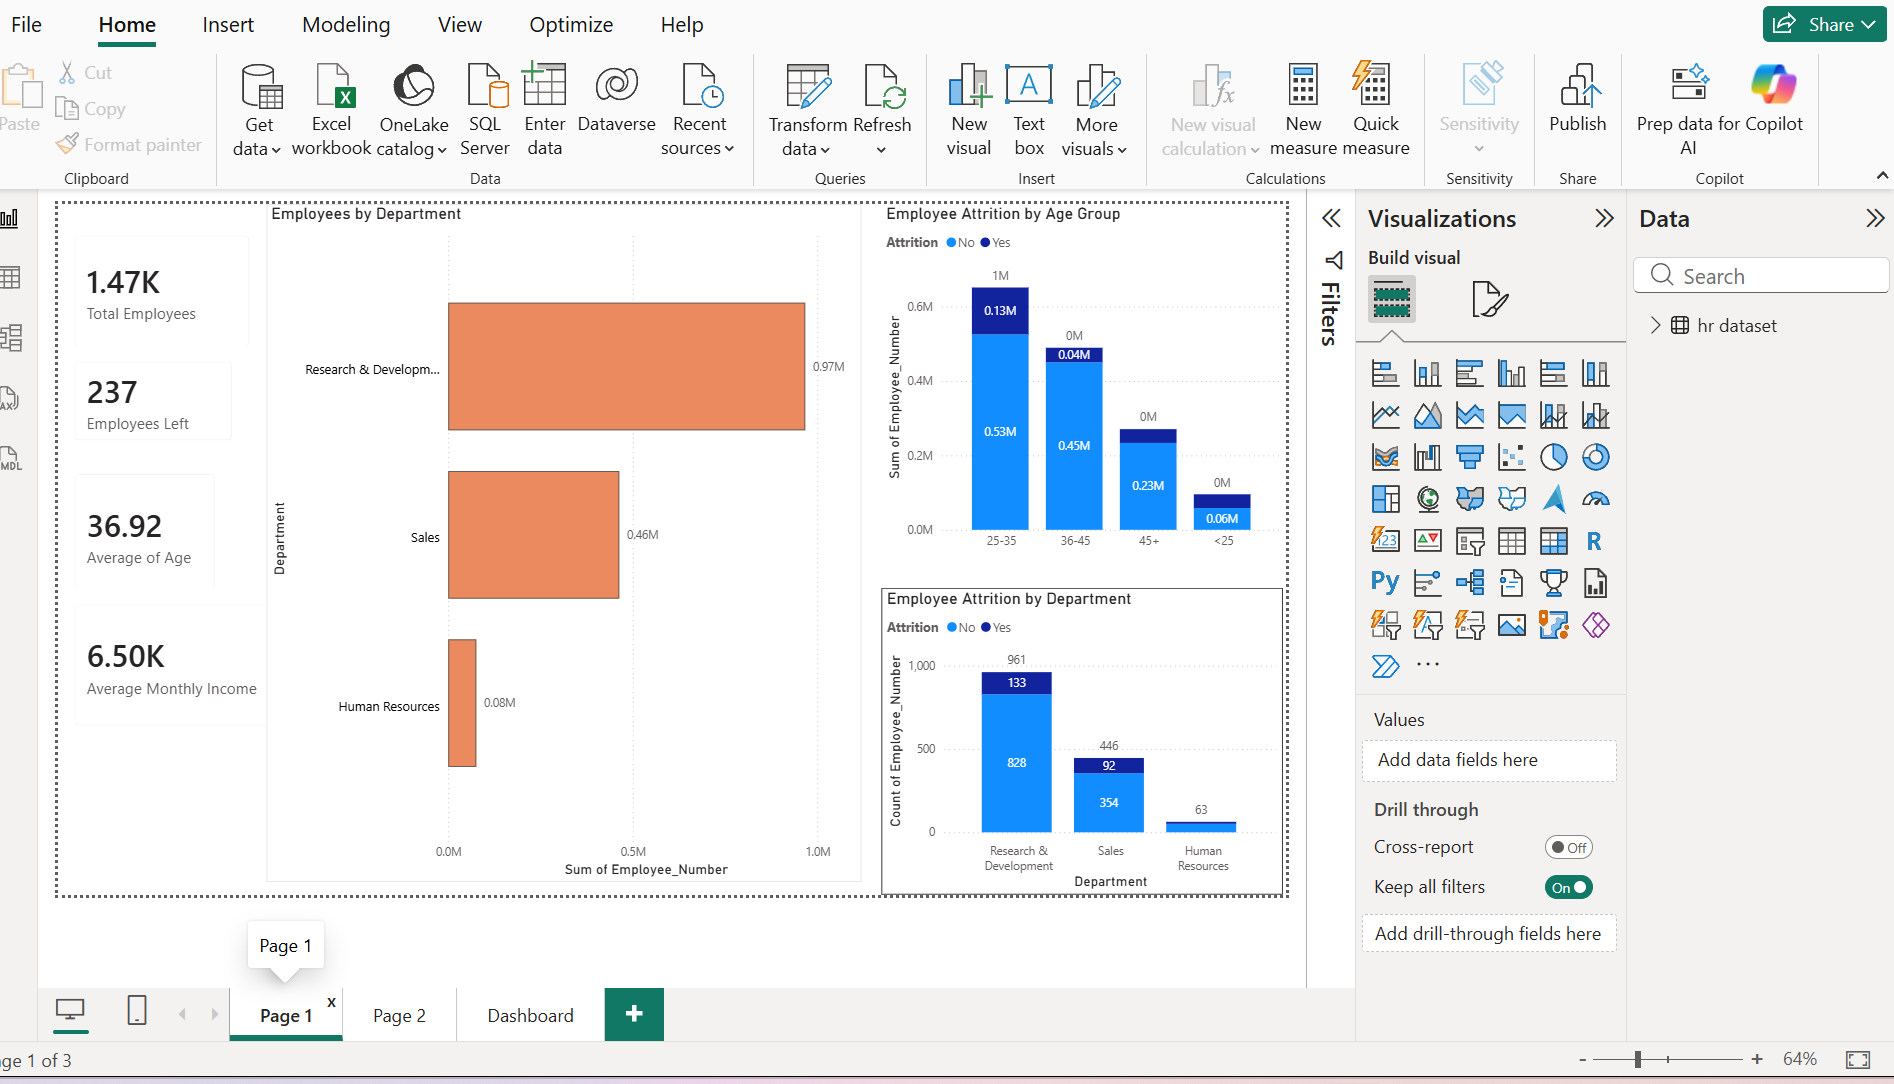

The dashboard page shown, as its layout file describes it:
{"tool":"powerbi","page":{"name":"Page 1","canvas":[1280,720],"ordinal":0},"visuals":[{"type":"cardVisual","fields":{"Data":["CountNonNull(hr dataset.Employee_Number)"]},"box":[0,15.1,216.5,149.9],"z":0},{"type":"cardVisual","fields":{"Data":["Sum(hr dataset.Attrition_flag)"]},"box":[0,146.9,198.4,116.6],"z":1000},{"type":"cardVisual","fields":{"Data":["Avg(hr dataset.Age)"]},"box":[0,263.5,180.2,160.5],"z":2000},{"type":"cardVisual","fields":{"Data":["Avg(hr dataset.Monthly_Income)"]},"box":[0,399.8,239.2,160.5],"z":3000},{"type":"clusteredBarChart","title":"Employees by Department","fields":{"Y":["Sum(hr dataset.Employee_Number)"],"Category":["hr dataset.Department"]},"box":[216.5,0,620.8,705.6],"z":4000},{"type":"columnChart","title":"Employee Attrition by Department","fields":{"Category":["hr dataset.Department"],"Series":["hr dataset.Attrition"],"Y":["CountNonNull(hr dataset.Employee_Number)"]},"box":[857,399.8,417.9,319.5],"z":5000},{"type":"columnChart","title":"Employee Attrition by Age Group","fields":{"Category":["hr dataset.age_group"],"Y":["Sum(hr dataset.Employee_Number)"],"Series":["hr dataset.Attrition"]},"box":[857,0,422.5,380.1],"z":6000}]}

Visuals, with their boxes on the page's 1280x720 design canvas (x1, y1, x2, y2). These are canvas units, not pixel positions in the 1894x1084 screenshot, which may show the page scaled, cropped or inside an application window:
cardVisual - CountNonNull(hr dataset.Employee_Number): detection(0, 15, 216, 165)
cardVisual - Sum(hr dataset.Attrition_flag): detection(0, 147, 198, 264)
cardVisual - Avg(hr dataset.Age): detection(0, 264, 180, 424)
cardVisual - Avg(hr dataset.Monthly_Income): detection(0, 400, 239, 560)
"Employees by Department" clusteredBarChart: detection(216, 0, 837, 706)
"Employee Attrition by Department" columnChart: detection(857, 400, 1275, 719)
"Employee Attrition by Age Group" columnChart: detection(857, 0, 1280, 380)
